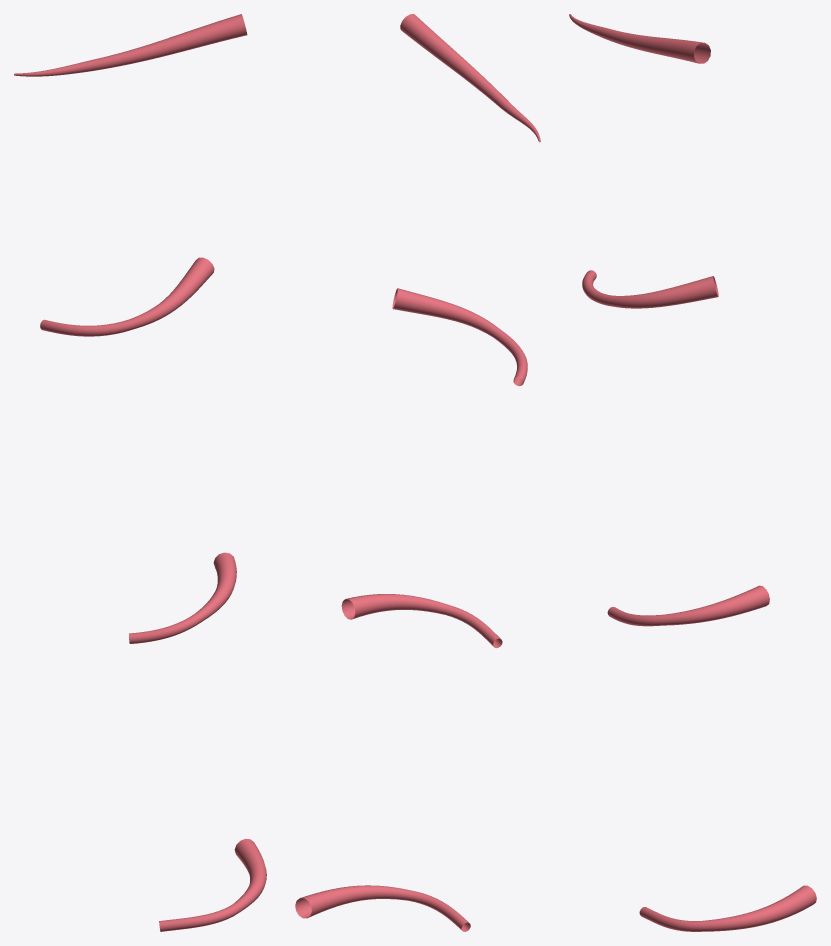
3 views of the same model, side by side, from view 1: azimuth 30°, elevation 25°; view 2: azimuth 150°, elevation 25°; view 3: azimuth 330°, elevation 25° (orthographic).
Visible parts, largest first — view 1: ZA_56eb3bae5a490063; view 2: ZA_56eb3bae5a490063; view 3: ZA_56eb3bae5a490063.
Boxes of the visible parts, x1,y1,x2,y2 form: ZA_56eb3bae5a490063: (14, 14, 266, 931); ZA_56eb3bae5a490063: (295, 14, 540, 931); ZA_56eb3bae5a490063: (569, 14, 816, 931).
Size of the model in its own units: 0.0515 by 0.1822 by 0.0216.
